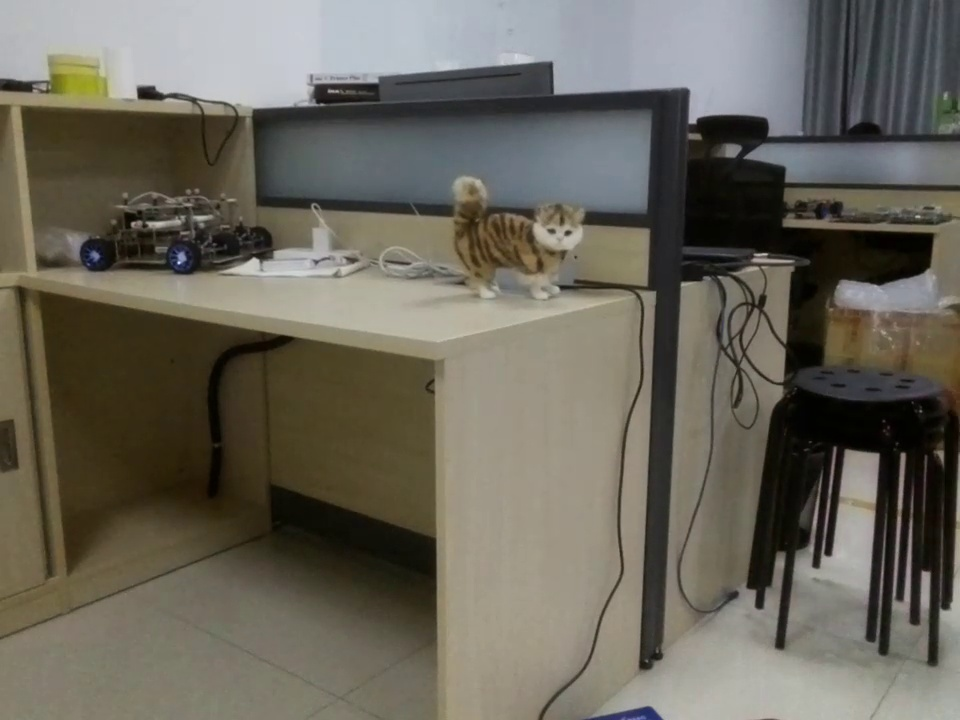cat: (440, 170, 594, 306)
